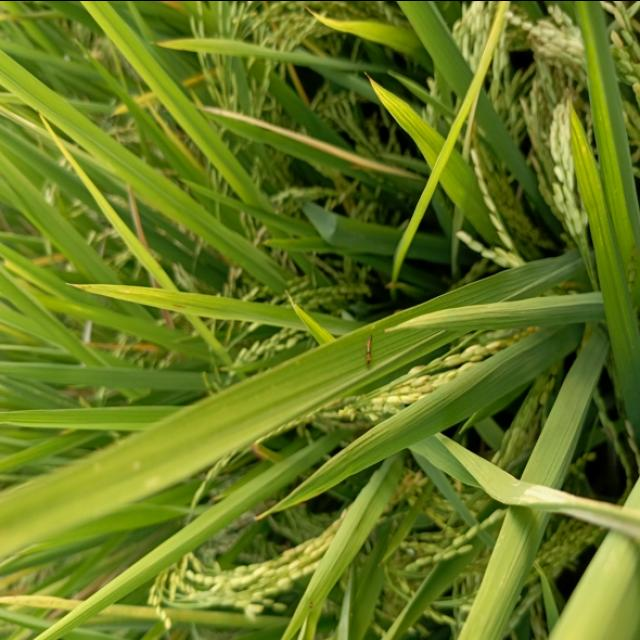Penggulung Daun: (507, 479, 640, 568)
